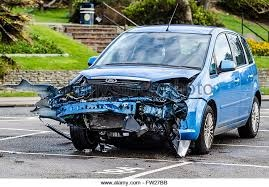Broken-glass: (151, 82, 192, 102), (70, 77, 97, 102)
Smashed: (24, 70, 206, 155)
